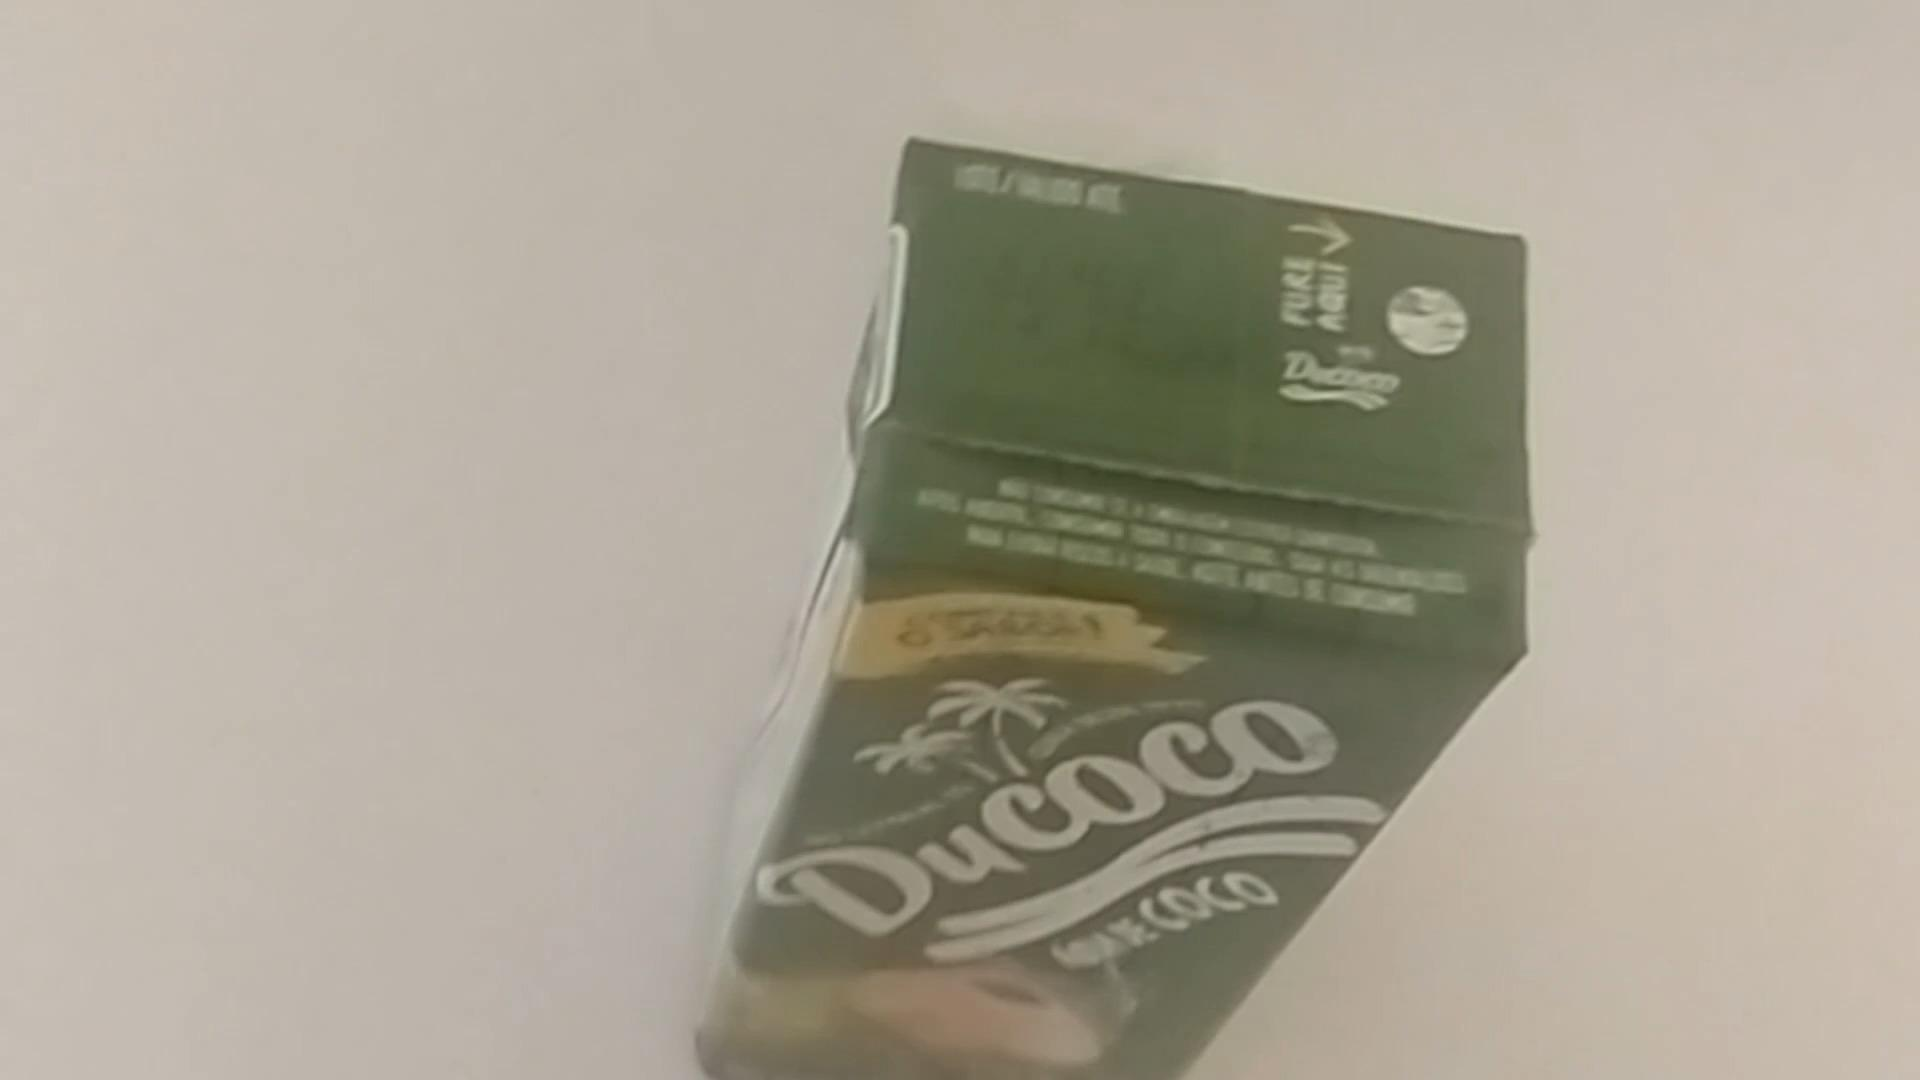coco: (679, 137, 1526, 1080)
